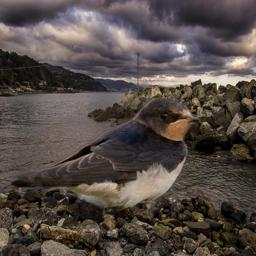Swallow: (8, 95, 200, 218)
